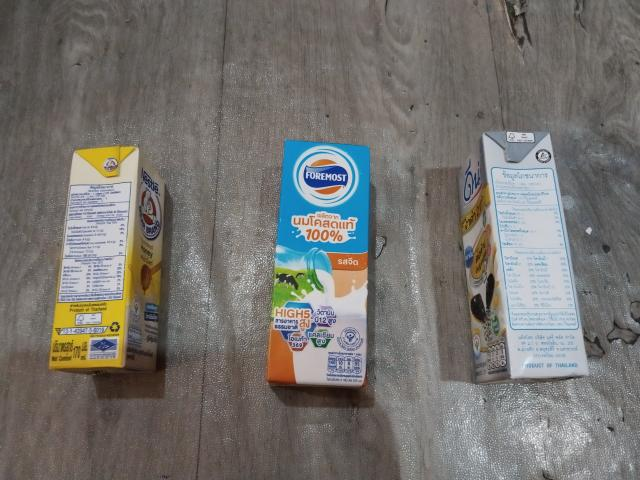drink_box: (455, 130, 586, 388), (270, 136, 378, 395), (63, 142, 167, 375)
